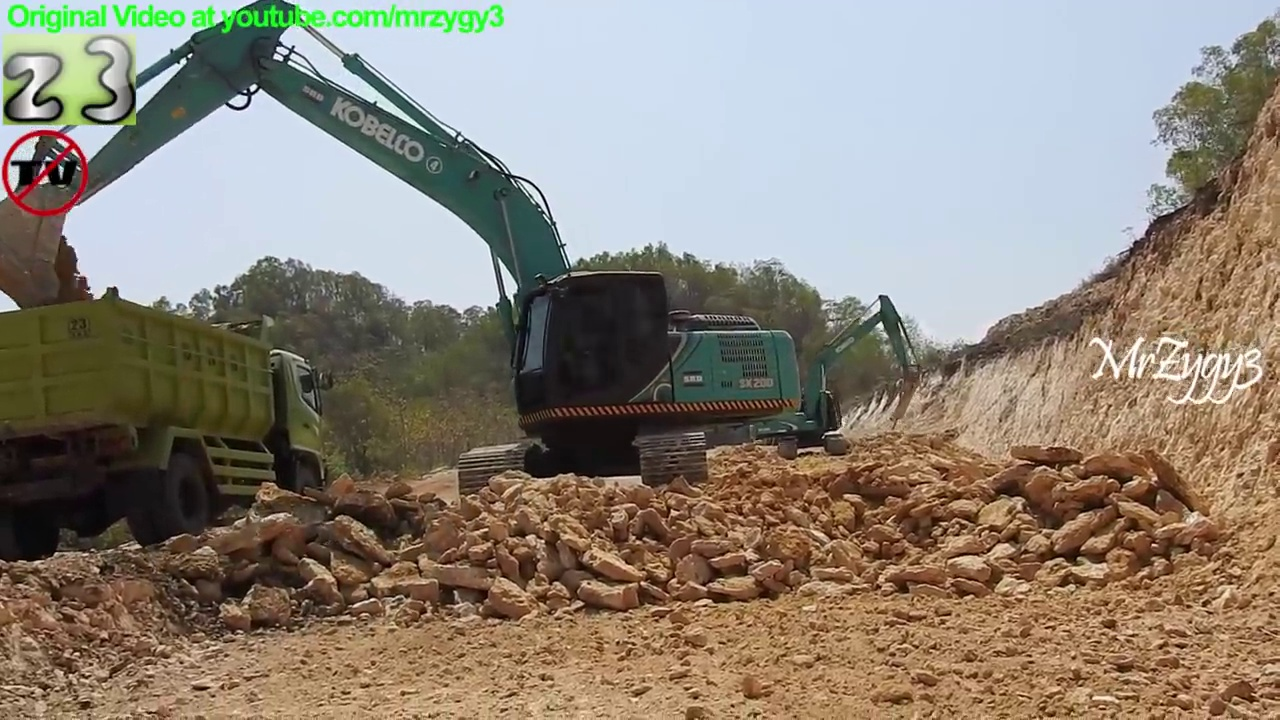excavator: (1, 1, 809, 517), (743, 292, 926, 462)
truck: (1, 281, 337, 568)
